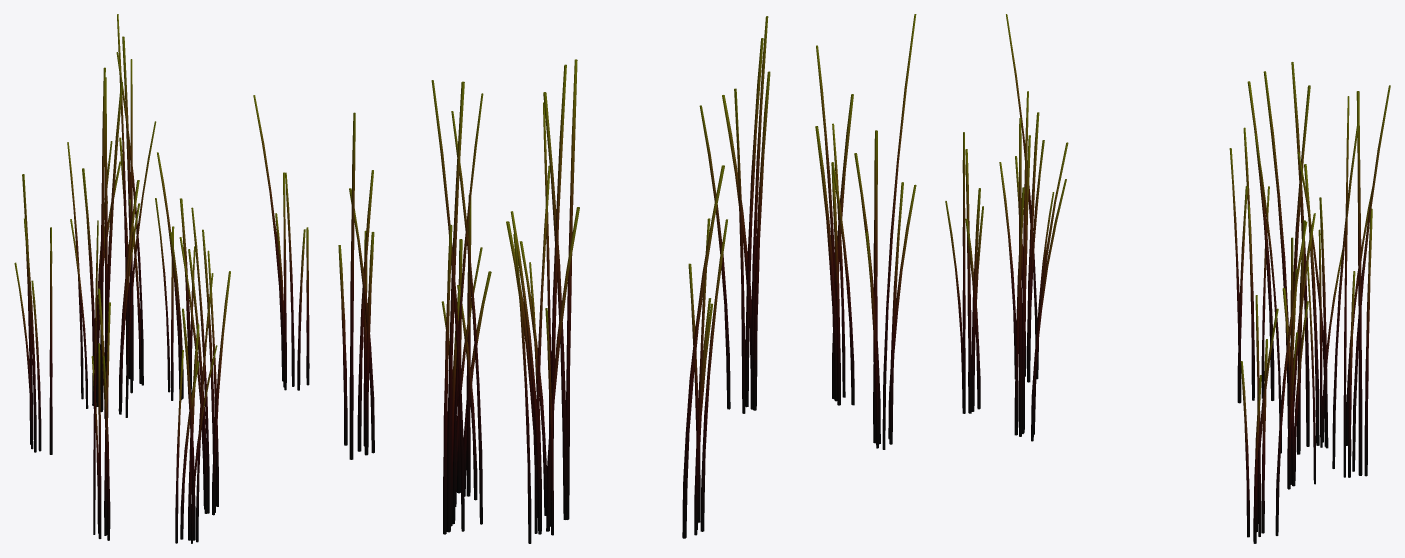
The model's file is patch_bamboo_far.glb.
3 views of the same model, side by side, from view 1: azimuth 30°, elevation 25°; view 2: azimuth 150°, elevation 25°; view 3: azimuth 270°, elevation 25° (orthographic). The views are drawn at different scales.
Parts seen in each view (by area): view 1: patch_bamboo_far; view 2: patch_bamboo_far; view 3: patch_bamboo_far.
Boxes of the visible parts, bbox=[...] form: patch_bamboo_far: bbox=[14, 14, 309, 543]; patch_bamboo_far: bbox=[338, 14, 916, 543]; patch_bamboo_far: bbox=[945, 14, 1390, 543].
Size of the model in its own units: 8.22 by 8.55 by 8.87.
1 material, 1 textured.
